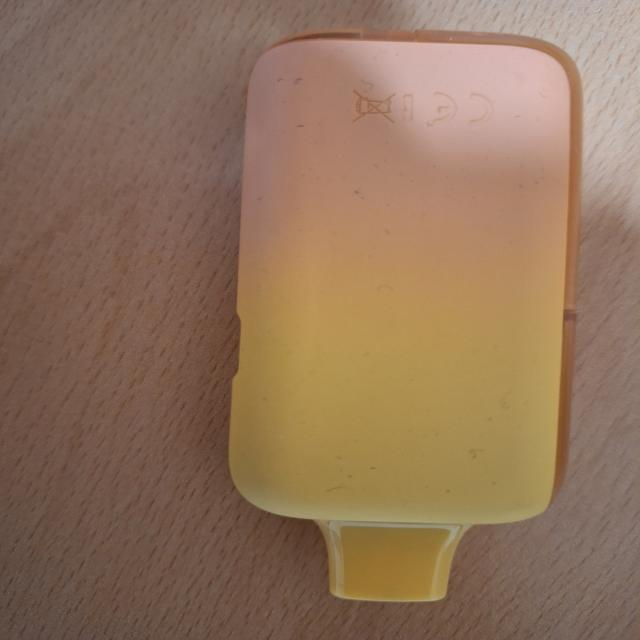Hazard: (227, 28, 582, 602)
